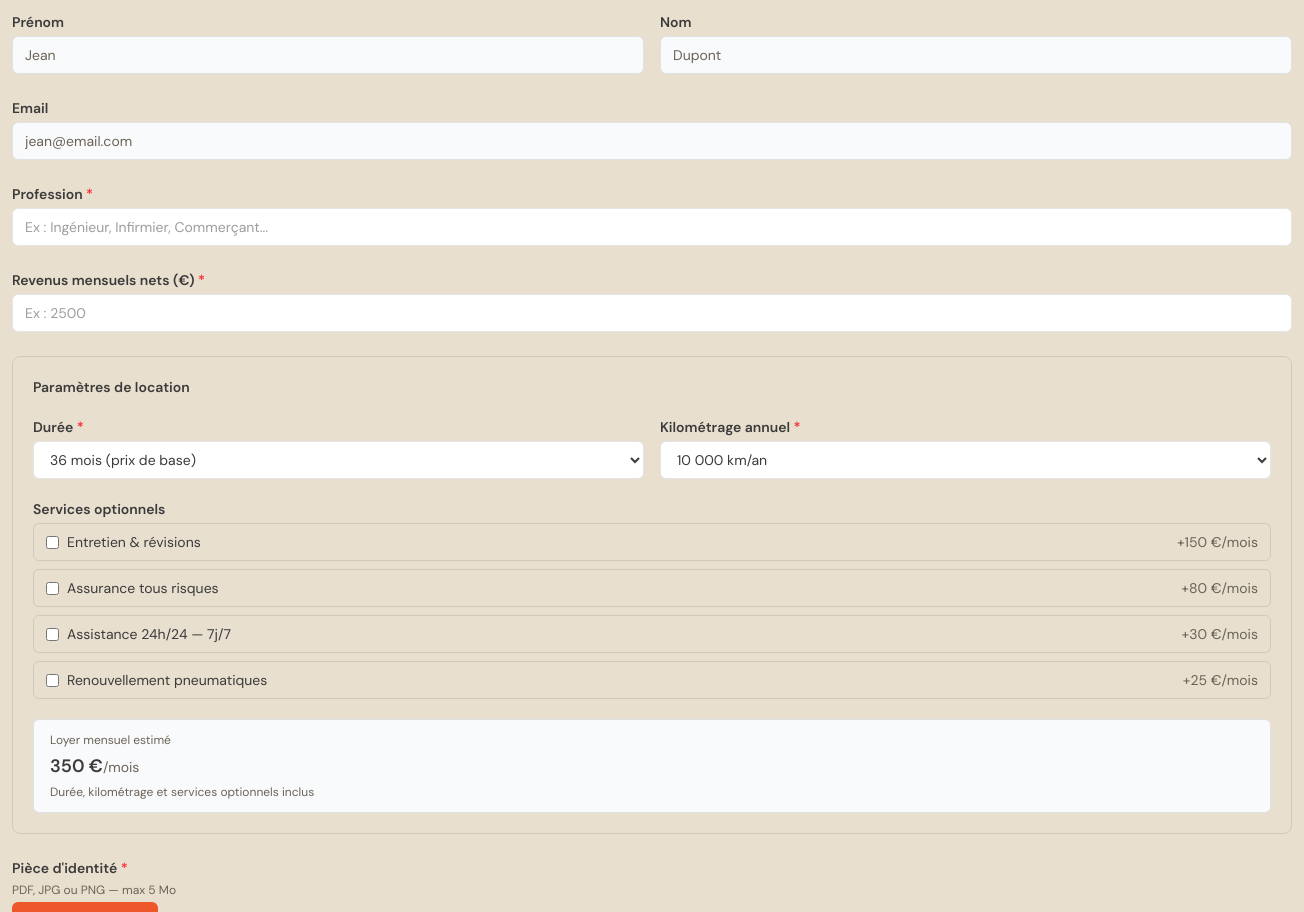
Test case: SubmissionForm › met à jour le loyer quand le kilométrage change
This screenshot has width=1304, height=912.
Select "15 000 km/an (+15 €/mois)" in the dropdown labelled "Kilométrage annuel *" at coordinates (966, 460), box [660,441,1271,479]
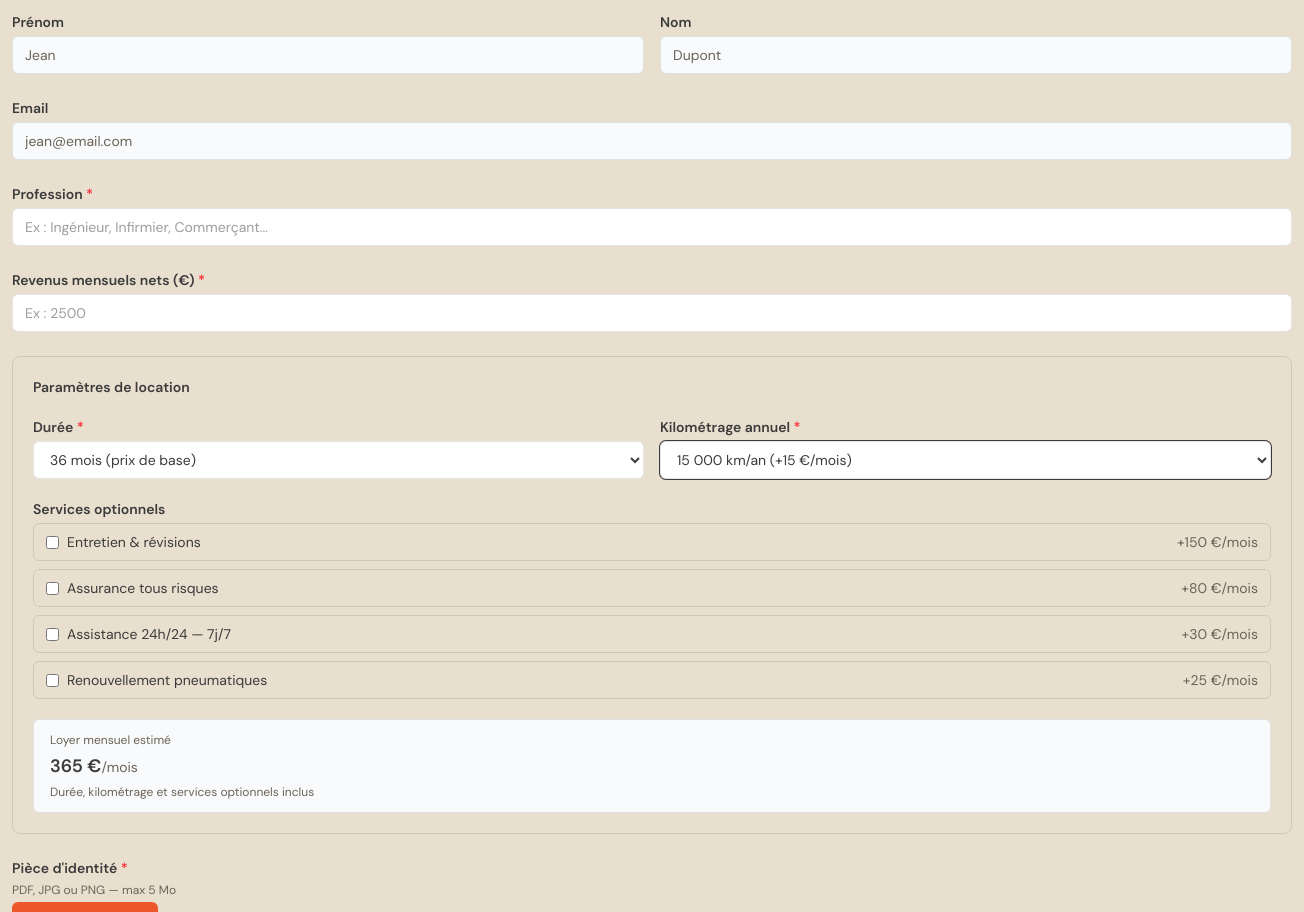
Expected: the text "365 €/mois" is shown, [50,754,138,778]
